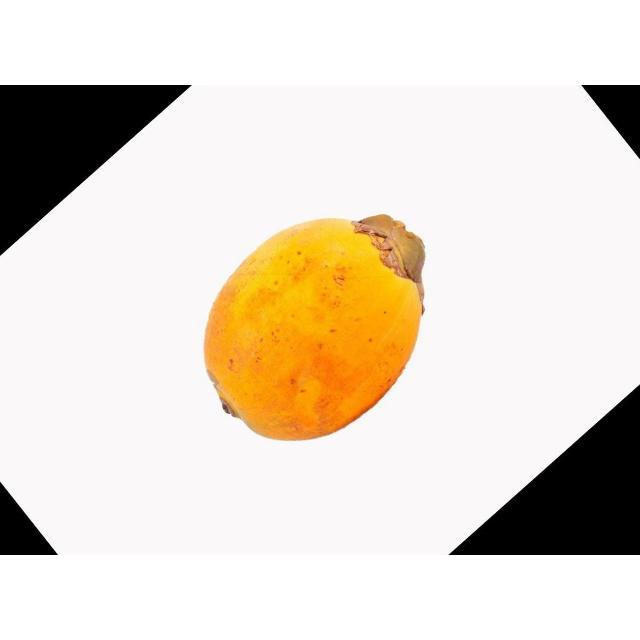good: (200, 213, 427, 444)
